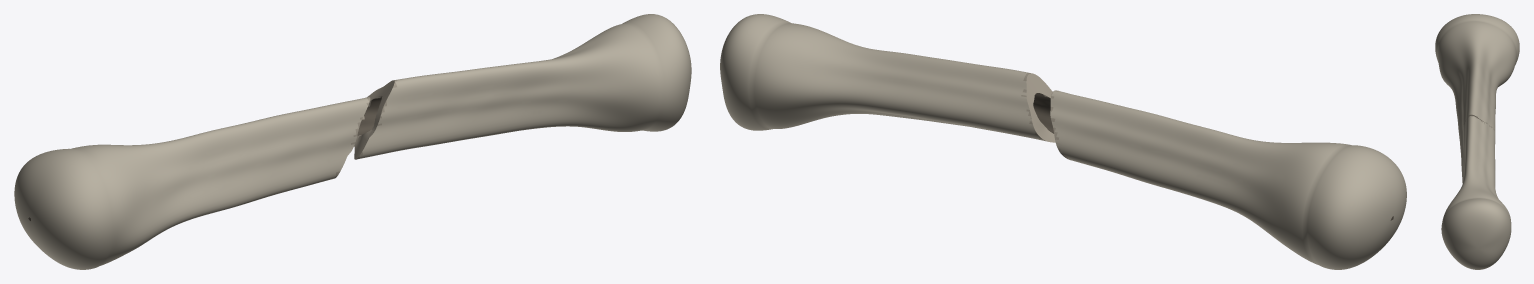
The model's file is bone-hi.glb.
The picture shows the model from 3 angles, left to right: view 1: azimuth 30°, elevation 25°; view 2: azimuth 150°, elevation 25°; view 3: azimuth 270°, elevation 25°; orthographic projection. The views are drawn at different scales.
Parts seen in each view (by area): view 1: Bone_Proximal, Bone_Distal; view 2: Bone_Proximal, Bone_Distal; view 3: Bone_Distal, Bone_Proximal.
Boxes of the visible parts, bbox=[...] form: Bone_Proximal: bbox=[14, 97, 370, 269]; Bone_Distal: bbox=[354, 14, 691, 159]; Bone_Proximal: bbox=[1050, 90, 1406, 269]; Bone_Distal: bbox=[720, 14, 1055, 142]; Bone_Distal: bbox=[1441, 115, 1511, 269]; Bone_Proximal: bbox=[1435, 14, 1519, 138].
Size of the model in its own units: 0.1706 by 0.029 by 0.0304.
